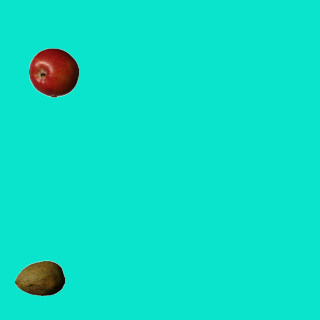Apple Braeburn: (28, 47, 78, 97)
Papaya: (14, 253, 64, 303)
